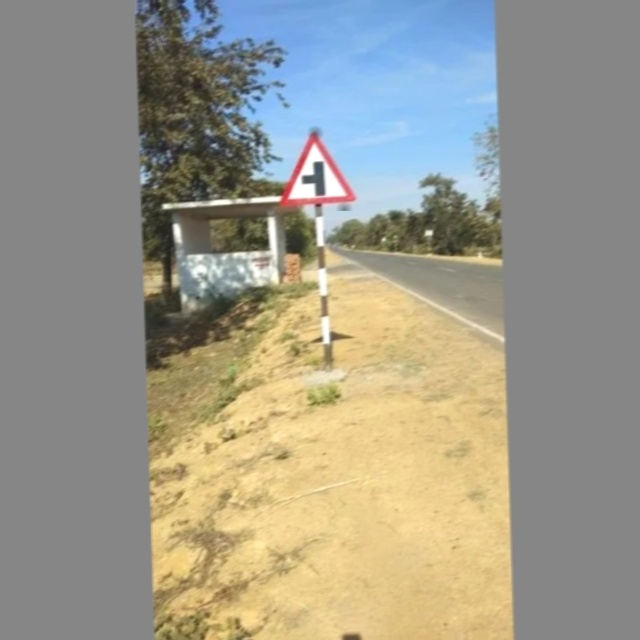Side_Road_Left: (275, 126, 358, 211)
